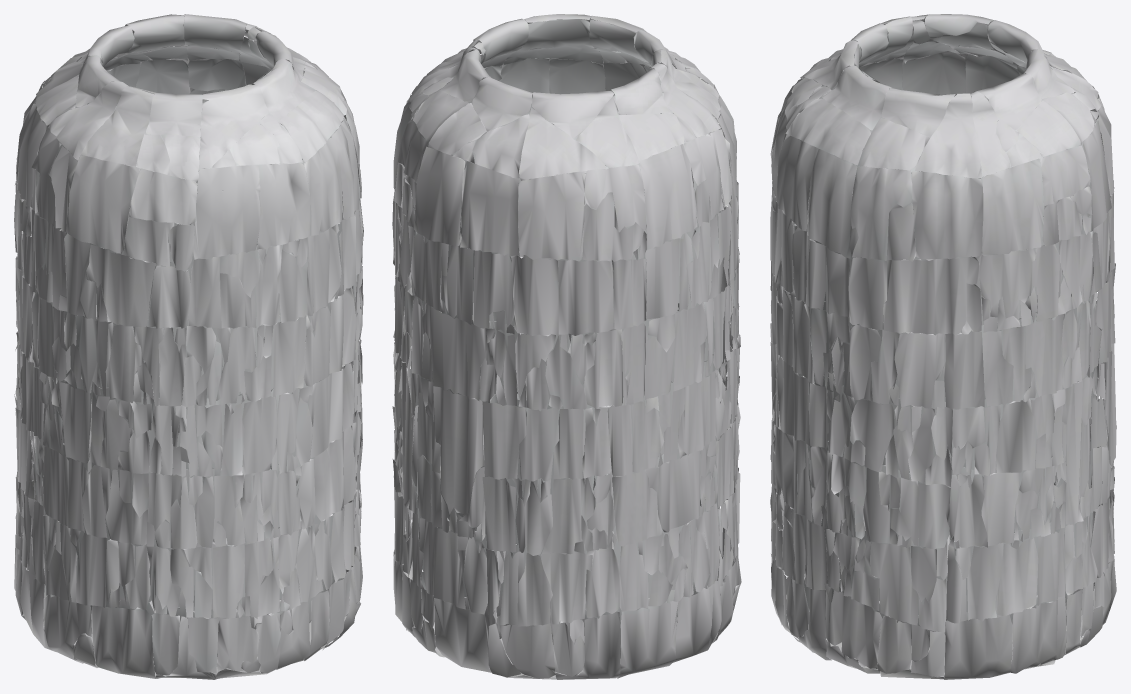
File: ribbed-ceramic-vase-for-home-decor-modern-minimali-light.glb
3 views of the same model, side by side, from view 1: azimuth 30°, elevation 25°; view 2: azimuth 150°, elevation 25°; view 3: azimuth 270°, elevation 25° (orthographic).
Parts seen in each view (by area): view 1: mesh_node; view 2: mesh_node; view 3: mesh_node.
Boxes of the visible parts, x1,y1,x2,y2 form: mesh_node: [14, 14, 363, 679]; mesh_node: [392, 14, 741, 679]; mesh_node: [770, 14, 1116, 679].
Bounding box in the file's own units: 1.07 × 1.91 × 1.07.
1 material, 1 textured.
